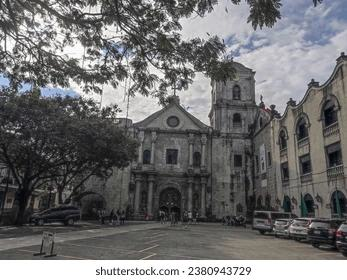San Agustin Church: (132, 55, 260, 222)
